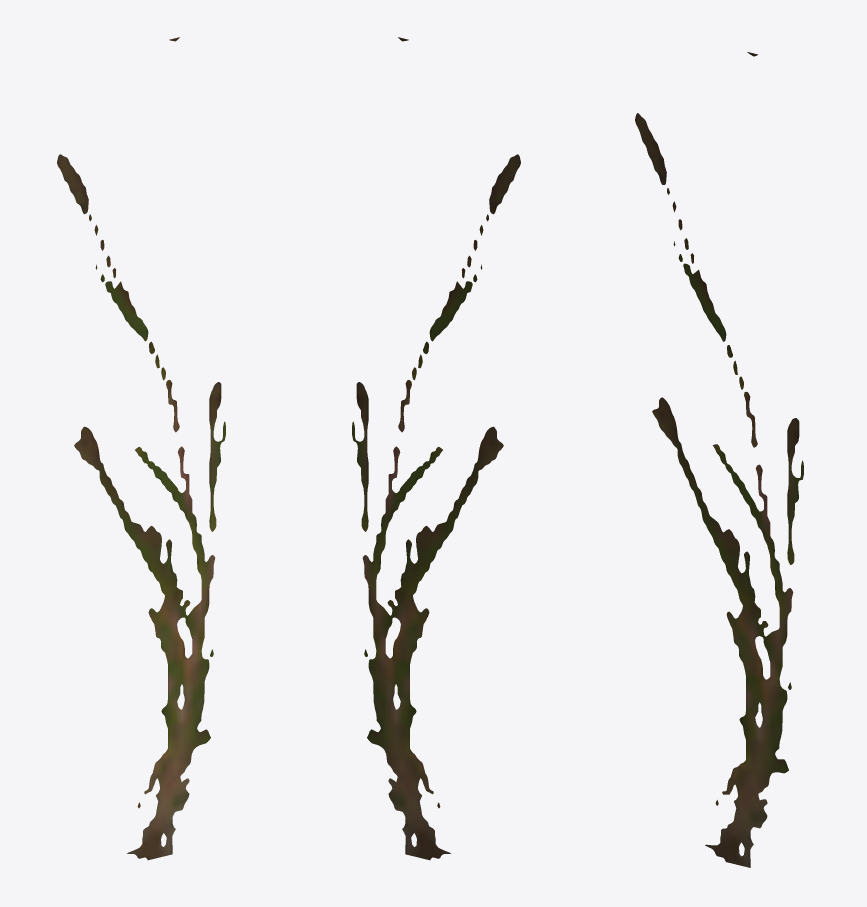
File: reed_4.FBX
3 views of the same model, side by side, from view 1: azimuth 30°, elevation 25°; view 2: azimuth 150°, elevation 25°; view 3: azimuth 330°, elevation 25° (orthographic).
Visible parts, largest first — view 1: reed_04; view 2: reed_04; view 3: reed_04.
Boxes of the visible parts, x1,y1,x2,y2 form: reed_04: [57, 37, 225, 860]; reed_04: [352, 37, 520, 860]; reed_04: [635, 52, 803, 867].
Bounding box in the file's own units: 24.24 × 72.5 × 1.07e-05.
